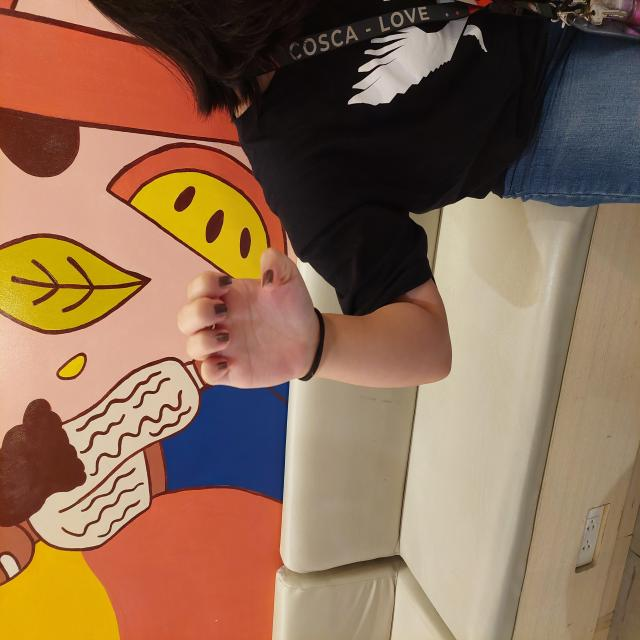E: (250, 174, 396, 324)
